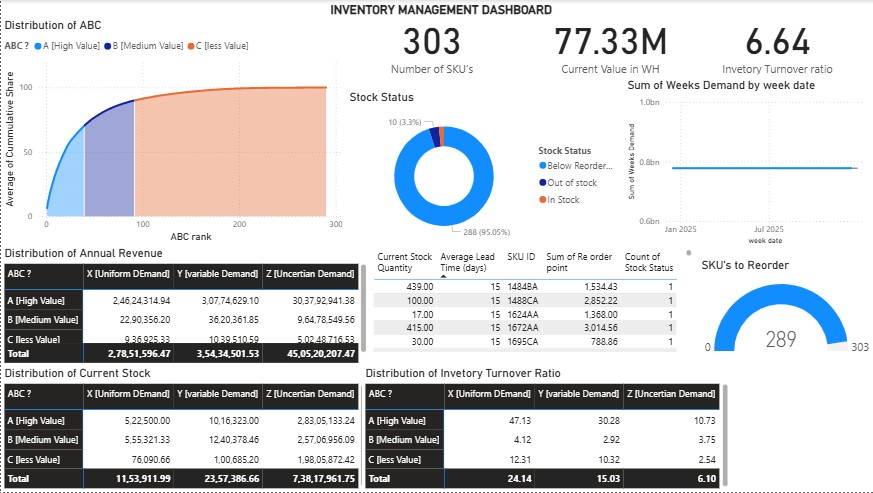

The dashboard page shown, as its layout file describes it:
{"tool":"powerbi","page":{"name":"Page 1","canvas":[1280,720],"ordinal":0},"visuals":[{"type":"stackedAreaChart","title":"Distribution of ABC","fields":{"Category":["Stock.ABC rank"],"Y":["Avg(Stock.Cummulative Share)"],"Series":["Stock.ABC ?"]},"box":[0,26.3,504.9,333.7],"z":0},{"type":"pivotTable","title":"Distribution of Annual Revenue","fields":{"Rows":["Stock.ABC ?"],"Columns":["Stock.XYZ ?"],"Values":["Sum(Stock.Annual Revenue)"]},"box":[0,360,540,175.6],"z":1000},{"type":"pivotTable","title":"Distribution of Current Stock","fields":{"Rows":["Stock.ABC ?"],"Columns":["Stock.XYZ ?"],"Values":["Sum(Stock.Value in WH)"]},"box":[0,535.6,540,184.4],"z":2000},{"type":"card","fields":{"Values":["Stock.Invetory Turnover ratio"]},"box":[992.2,11.7,288.3,102.4],"z":3000},{"type":"card","fields":{"Values":["Count(Stock.SKU ID)"]},"box":[504.9,11.7,251.7,102.4],"z":4000},{"type":"card","fields":{"Values":["Sum(Stock.Value in WH)"]},"box":[756.6,11.7,270.7,102.4],"z":5000},{"type":"pivotTable","title":"Distribution of Invetory Turnover Ratio","fields":{"Rows":["Stock.ABC ?"],"Columns":["Stock.XYZ ?"],"Values":["Stock.Invetory Turnover ratio"]},"box":[528.3,535.6,541.5,184.4],"z":6000},{"type":"tableEx","fields":{"Values":["Stock.Current Stock Quantity","Stock.Average Lead Time (days)","Stock.SKU ID","Stock.Re order point","Stock.Stock Status"]},"box":[540,360,475.6,159.5],"z":7000},{"type":"gauge","title":"SKU''s to Reorder","fields":{"Y":["Stock.SKU's to Reorder"],"MaxValue":["CountNonNull(Stock.SKU ID)"]},"box":[1020,377.6,260.5,158],"z":8000},{"type":"donutChart","title":"Stock Status","fields":{"Category":["Stock.Stock Status"],"Y":["CountNonNull(Stock.SKU ID)"]},"box":[504.9,131.7,406.8,231.2],"z":9000},{"type":"lineChart","fields":{"Category":["Week Table.week date"],"Y":["Sum(Weekly Demand Sheet.Weeks Demand)"]},"box":[911.7,114.1,368.8,248.8],"z":9001},{"type":"textbox","title":"INVENTORY MANAGEMENT DASHBOARD","box":[477.1,2.9,461,23.4],"z":9002}]}

Visuals, with their boxes in screenshot pixels (x1, y1, x2, y2), scaled from the page's 1280x720 canvas onto the 873x493 screenshot:
"Distribution of ABC" stackedAreaChart: [left=0, top=18, right=344, bottom=246]
"Distribution of Annual Revenue" pivotTable: [left=0, top=246, right=368, bottom=367]
"Distribution of Current Stock" pivotTable: [left=0, top=367, right=368, bottom=492]
card - Stock.Invetory Turnover ratio: [left=677, top=8, right=872, bottom=78]
card - Count(Stock.SKU ID): [left=344, top=8, right=516, bottom=78]
card - Sum(Stock.Value in WH): [left=516, top=8, right=701, bottom=78]
"Distribution of Invetory Turnover Ratio" pivotTable: [left=360, top=367, right=730, bottom=492]
tableEx - Stock.Current Stock Quantity x Stock.Average Lead Time (days): [left=368, top=246, right=693, bottom=356]
"SKU''s to Reorder" gauge: [left=696, top=259, right=872, bottom=367]
"Stock Status" donutChart: [left=344, top=90, right=622, bottom=248]
lineChart - Week Table.week date x Sum(Weekly Demand Sheet.Weeks Demand): [left=622, top=78, right=872, bottom=248]
"INVENTORY MANAGEMENT DASHBOARD" textbox: [left=325, top=2, right=640, bottom=18]
